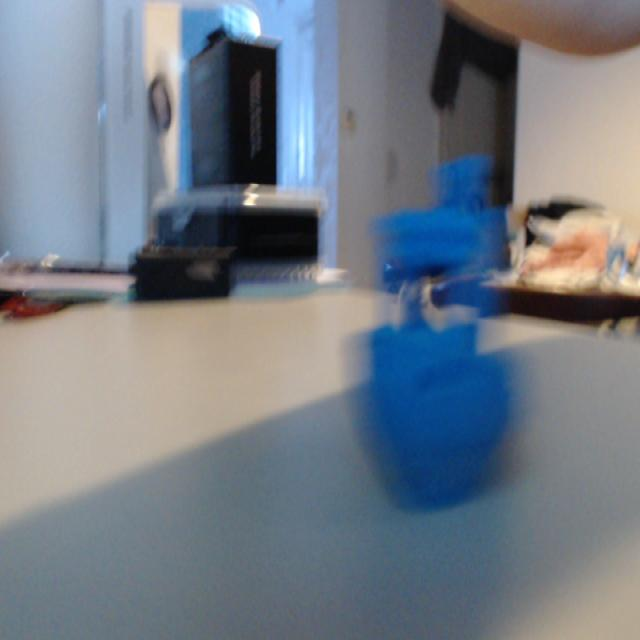benchy: (361, 272, 514, 513)
